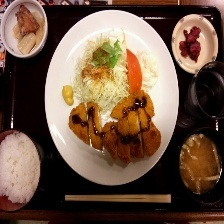rice: (0, 131, 36, 200)
